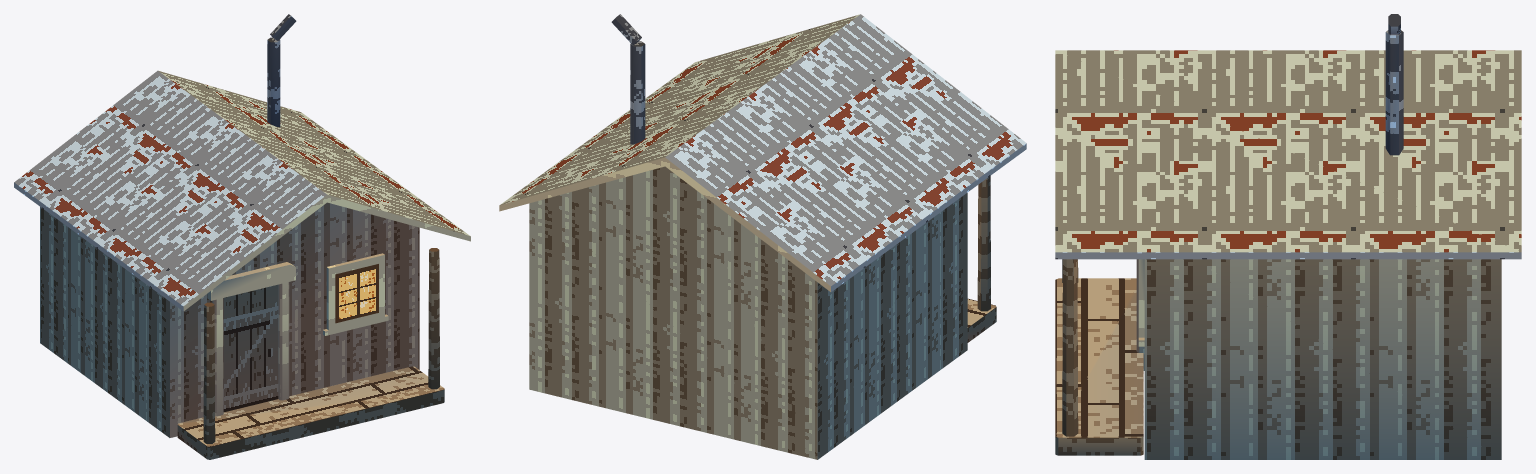
The model's file is wtown.shack.glb.
3 renders of one model, left to right at view 1: azimuth 30°, elevation 25°; view 2: azimuth 150°, elevation 25°; view 3: azimuth 270°, elevation 25°, orthographic. The views are drawn at different scales.
Parts seen in each view (by area): view 1: kit_roof, kit_body, kit_porch_deck, kit_card_panes, kit_trim, kit_porch, kit_windows, kit_pipe; view 2: kit_body, kit_roof, kit_porch, kit_pipe, kit_porch_deck; view 3: kit_roof, kit_body, kit_porch_deck, kit_porch, kit_pipe, kit_windows.
Part boxes in pixels (<box>): kit_roof: <box>14,70,470,311</box>; kit_body: <box>40,202,419,437</box>; kit_porch_deck: <box>177,366,444,459</box>; kit_card_panes: <box>223,264,378,412</box>; kit_trim: <box>207,262,295,416</box>; kit_porch: <box>203,248,439,443</box>; kit_windows: <box>323,253,388,335</box>; kit_pipe: <box>267,37,280,127</box>; kit_body: <box>529,166,967,459</box>; kit_roof: <box>499,14,1026,291</box>; kit_porch: <box>977,176,990,311</box>; kit_pipe: <box>630,41,645,144</box>; kit_porch_deck: <box>967,298,996,342</box>; kit_roof: <box>1055,50,1521,259</box>; kit_body: <box>1144,259,1501,459</box>; kit_porch_deck: <box>1055,278,1143,455</box>; kit_porch: <box>1062,259,1078,436</box>; kit_pipe: <box>1385,30,1403,155</box>; kit_windows: <box>1138,259,1144,346</box>.
Bounding box in the file's own units: 4.6 × 4.67 × 4.7.
9 materials, 9 textured.
